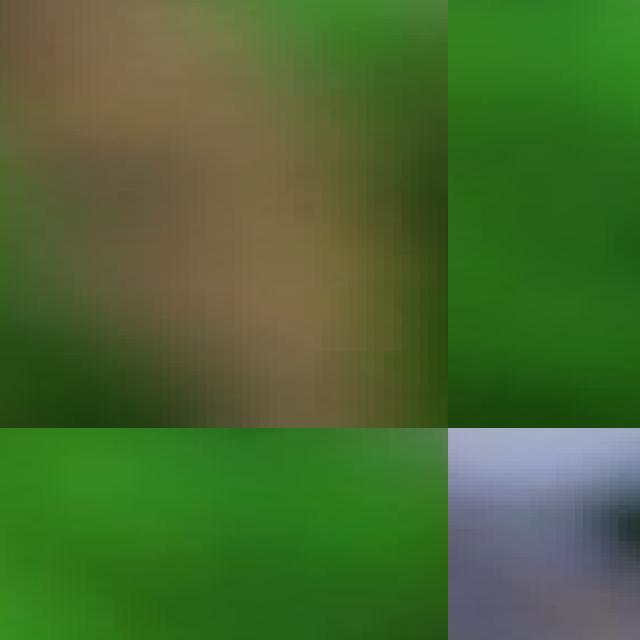fish: (0, 0, 448, 428), (448, 428, 640, 640)
